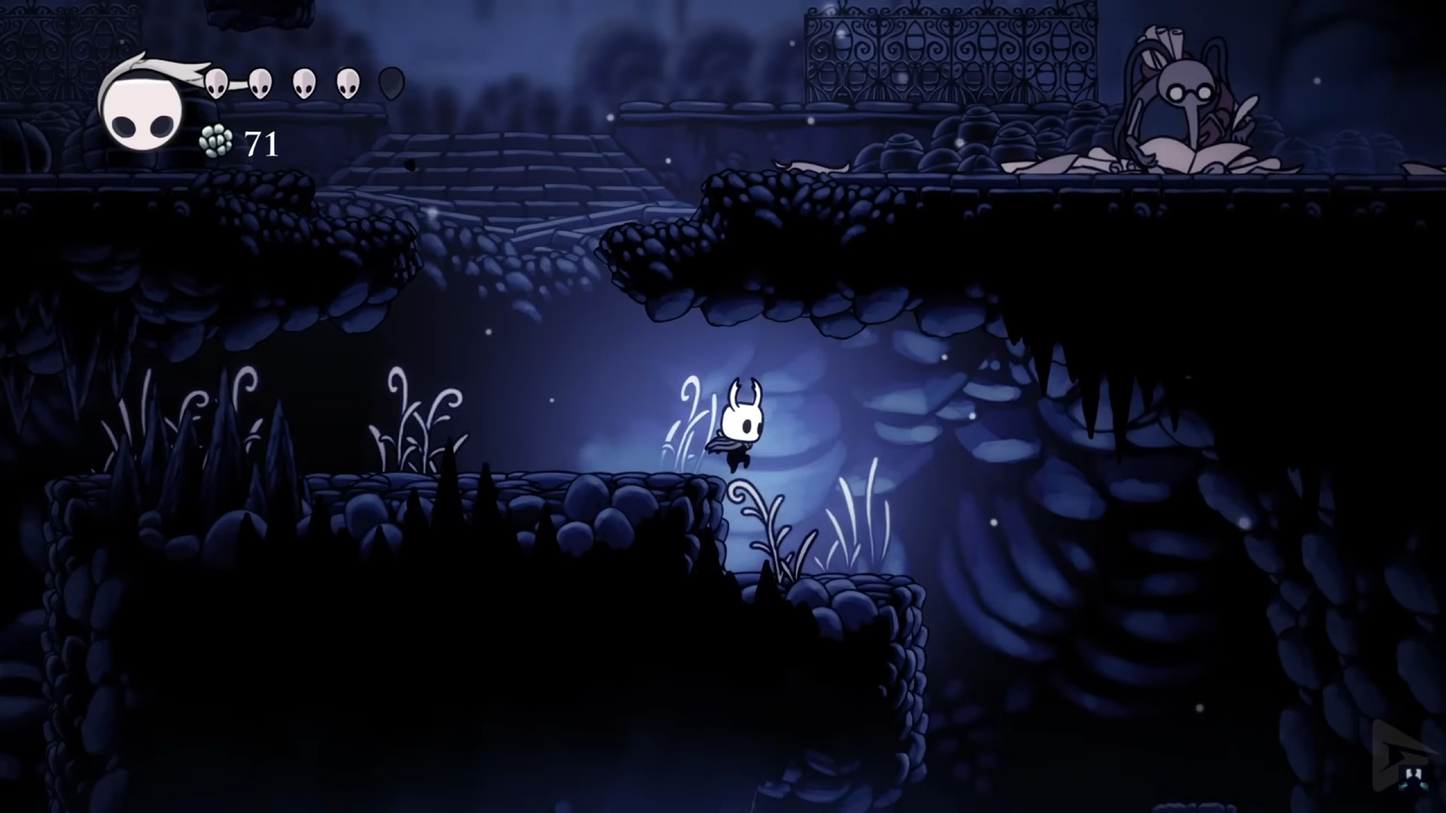HK: (707, 375, 767, 475)
